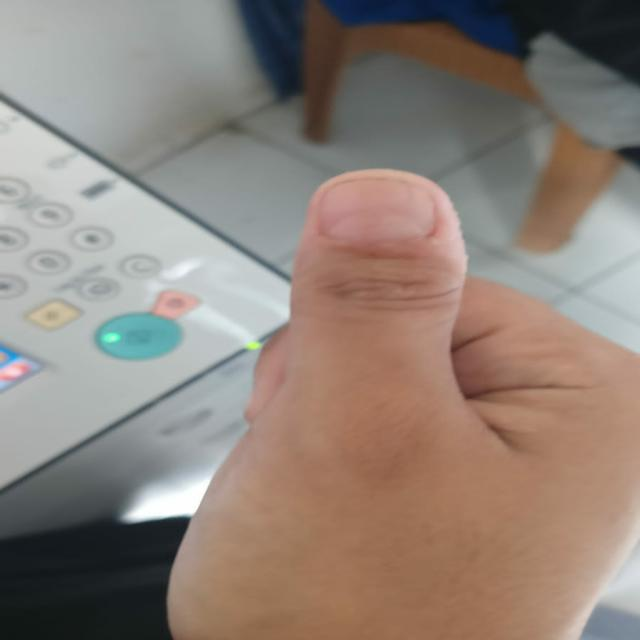sehat: (320, 178, 437, 240)
